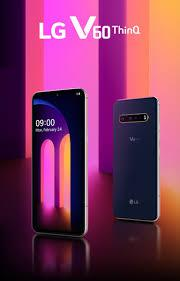Smartphone: (31, 88, 88, 242), (112, 99, 161, 220)
